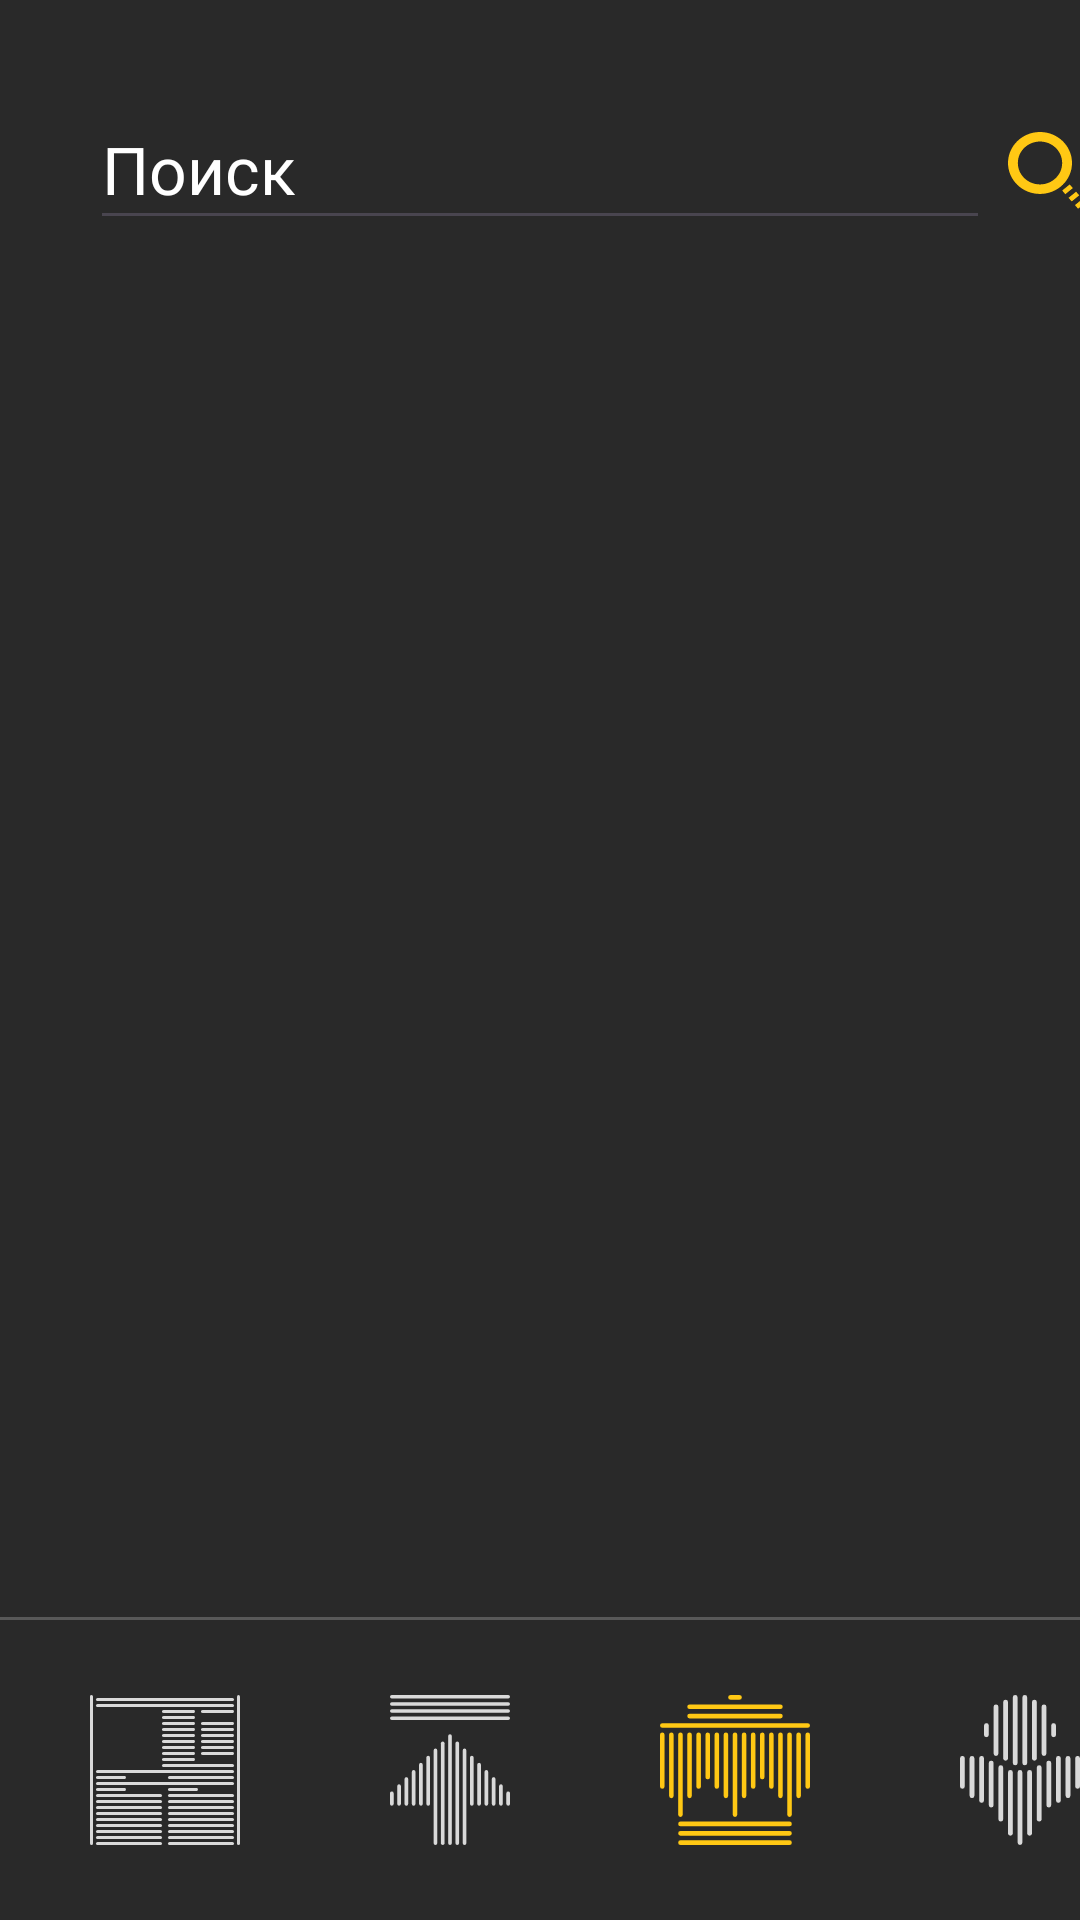

Named icons in this screenshot (1080px x 1920px) and their centers, [x,y]:
news: [165,1770]
store onclk: [735,1770]
upload: [450,1770]
